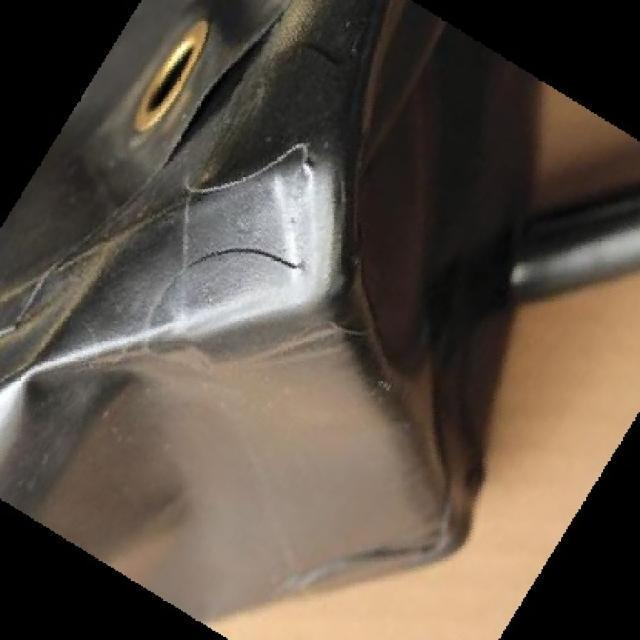crack: (164, 0, 318, 169), (151, 236, 314, 285)
dent: (0, 313, 427, 621), (0, 232, 162, 389)
